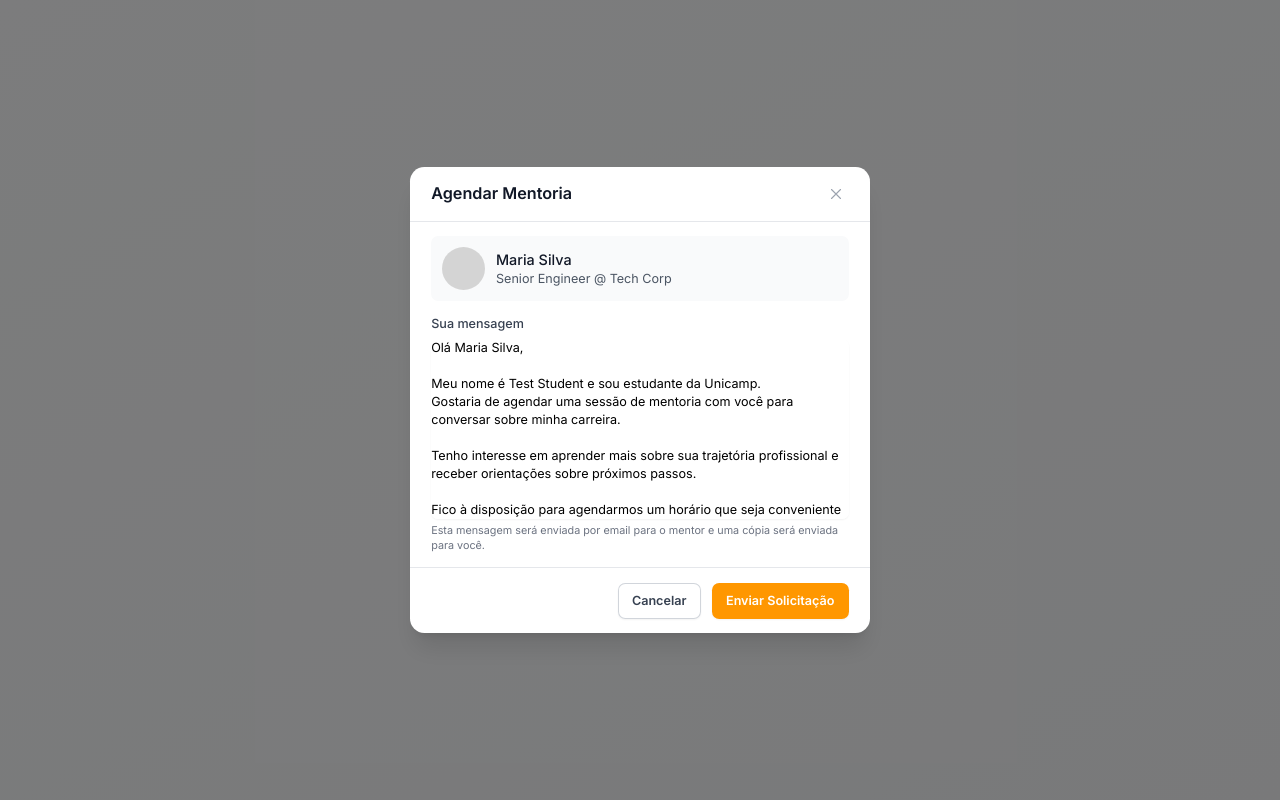
Test case: BookingModal › successful submission › submits session request with complete mentor data
Click the button "Enviar Solicitação" at (780, 601), box x1=712 y1=583 x2=849 y2=619
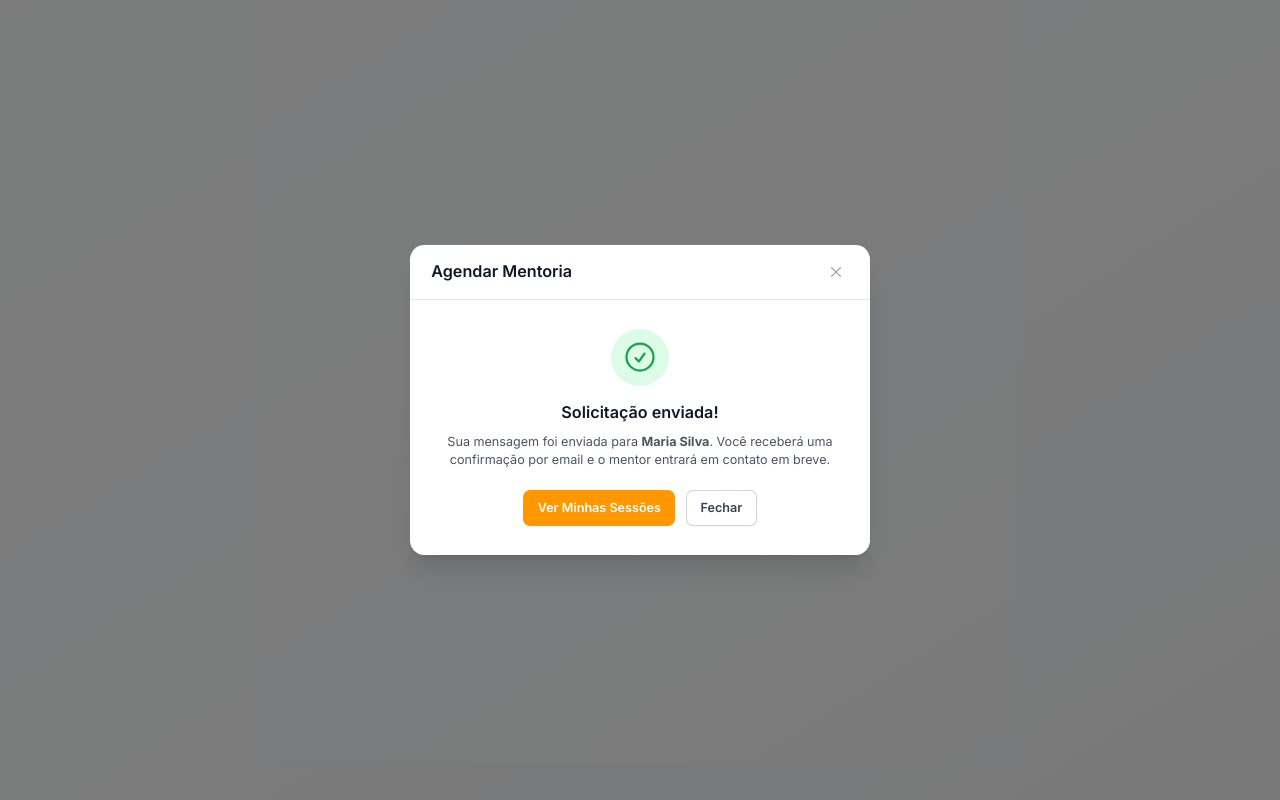
Result: the heading "Solicitação enviada!" is shown at x1=561 y1=402 x2=719 y2=422
